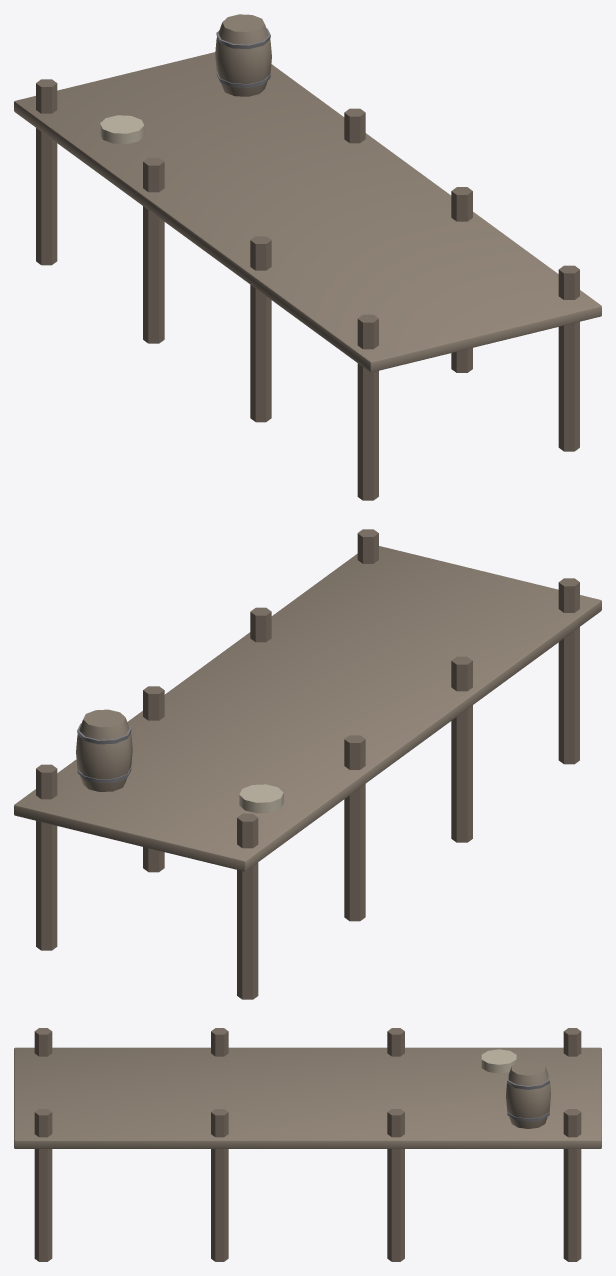
File: dock.gltf
3 renders of one model, top to bottom at view 1: azimuth 30°, elevation 25°; view 2: azimuth 150°, elevation 25°; view 3: azimuth 270°, elevation 25°, orthographic. The views are drawn at different scales.
Visible parts, largest first — view 1: Body; view 2: Body; view 3: Body.
Boxes of the visible parts, x1,y1,x2,y2 form: Body: (14, 14, 601, 500); Body: (14, 529, 601, 999); Body: (14, 1028, 601, 1261).
Size of the model in its own units: 3 by 2.67 by 8.
